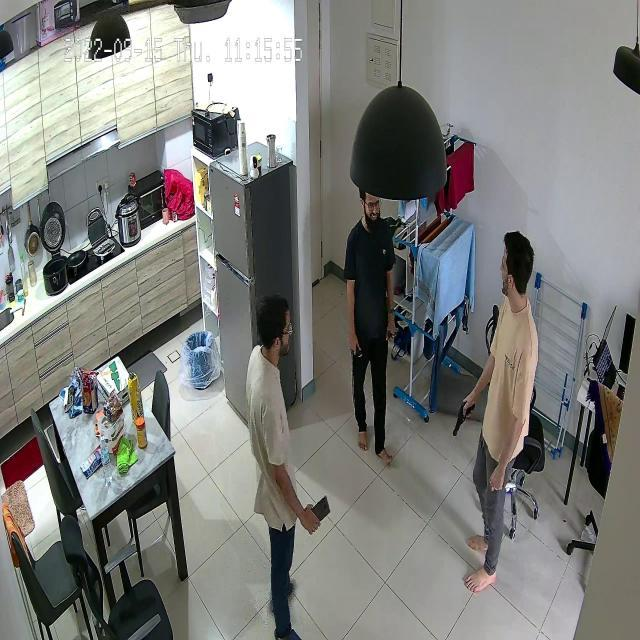Gun: (446, 392, 481, 448)
